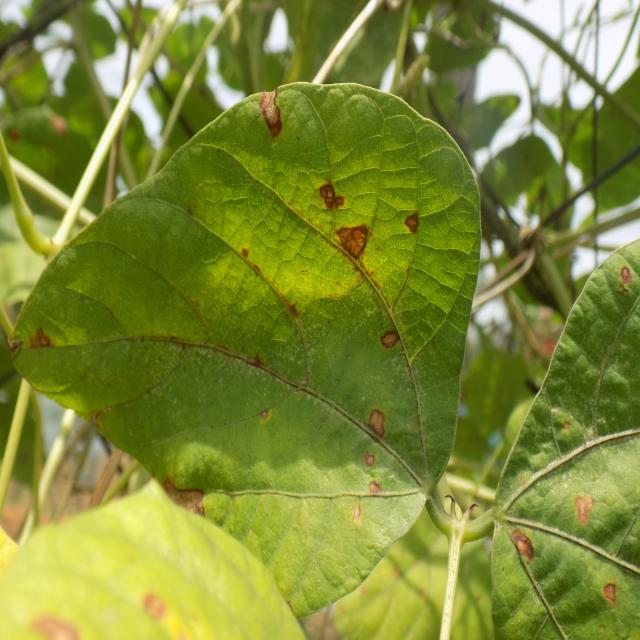Dolicos bean_cercospora leaf spot: (5, 78, 479, 621)
